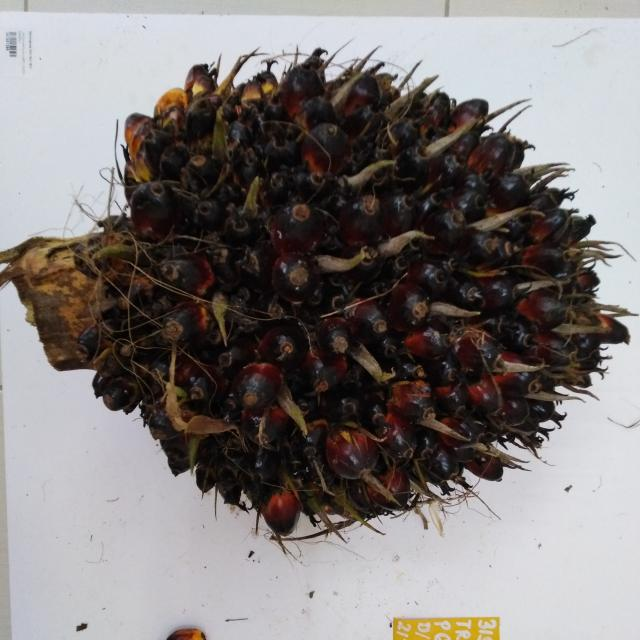FFB: (108, 58, 612, 513)
